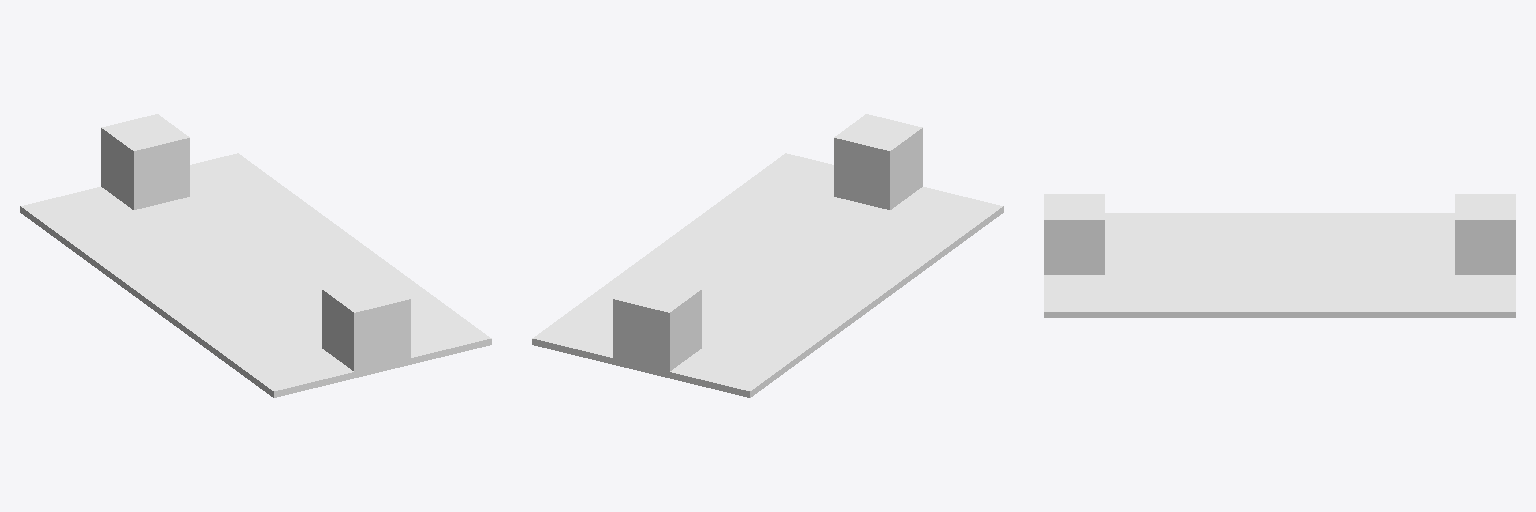
The robot description file, URDF, robot "_tray_3":
<robot name="_tray_3">
    <link name="_name">
        <visual>
            <origin xyz="-0.35 -0.0937822222742208 -0.023735777684080166" rpy="0 0 1.57079633" />
            <geometry>
                <mesh filename="_tray_3/jeff1.obj" scale="1.0 1.0 1.0" />
            </geometry>
            <material name="texture">
                <color rgba="1.0 1.0 1.0 1.0" />
            </material>
        </visual>
        <collision>
            <origin xyz="-0.35 -0.0937822222742208 -0.023735777684080166" rpy="0 0 1.57079633" />
            <geometry>
                <mesh filename="_tray_3/jeff1.obj" scale="1.0 1.0 1.0" />
            </geometry>
        </collision>
        <inertial>
            <origin xyz="0 2 0" rpy="0 0 0" />
            <mass value="1.0" />
            <inertia ixx="0.167" ixy="0.0" ixz="0.0" iyy="0.418" iyz="0.0" izz="0.417" />
        </inertial>
    </link>
</robot>

--- Render facts (derived) ---
Views: 3 orthographic renders of the robot side by side, from view 1: azimuth 30°, elevation 25°; view 2: azimuth 150°, elevation 25°; view 3: azimuth 270°, elevation 25°.
Model _tray_3 with 1 links and 0 joints (none), rooted at _name, posed all joints at 0.
Links seen in each view (by area): view 1: _name; view 2: _name; view 3: _name.
Boxes of the visible links, <box> form: _name: <box>20,114,491,397</box>; _name: <box>532,114,1003,397</box>; _name: <box>1044,194,1515,317</box>.
Bounding box of the posed robot: 348 × 700 × 100 m (x, y, z).
1 mesh visuals loaded from 1 distinct referenced files (1 OBJ).
